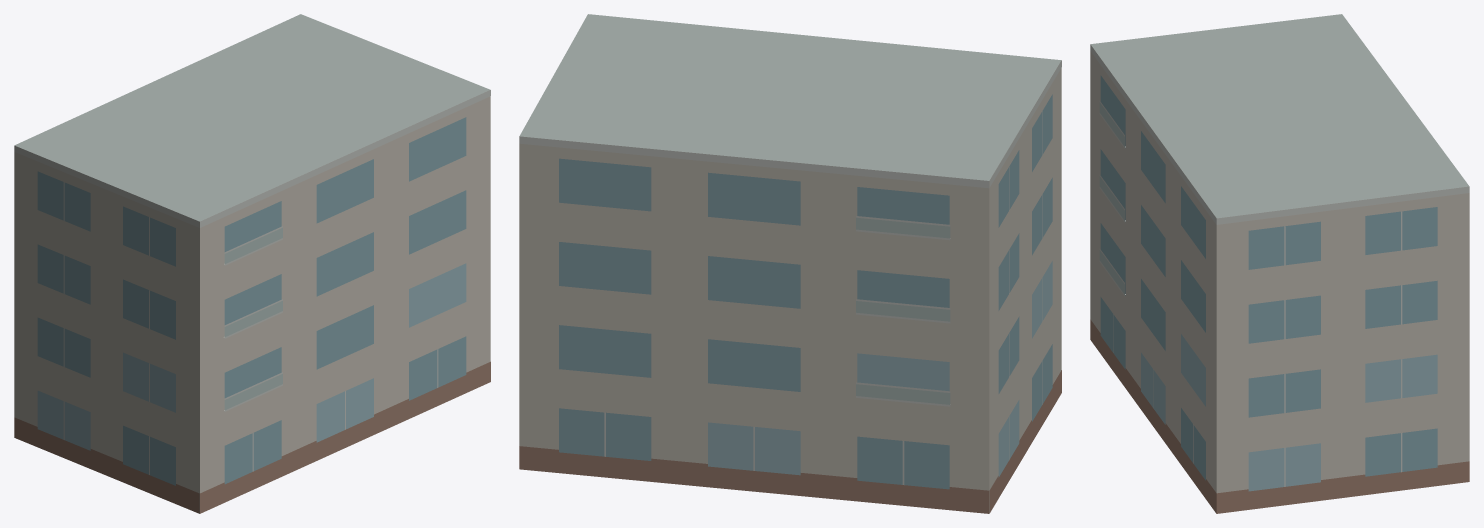
Rendered from survey-upis-32612944.glb.
The picture shows the model from 3 angles, left to right: view 1: azimuth 30°, elevation 25°; view 2: azimuth 150°, elevation 25°; view 3: azimuth 270°, elevation 25°; orthographic projection. The views are drawn at different scales.
Visible parts, largest first — view 1: survey-upis-32612944.tmp; view 2: survey-upis-32612944.tmp; view 3: survey-upis-32612944.tmp.
Boxes of the visible parts, x1,y1,x2,y2 form: survey-upis-32612944.tmp: (14,14,490,513); survey-upis-32612944.tmp: (519,14,1061,513); survey-upis-32612944.tmp: (1090,14,1469,513).
Bounding box in the file's own units: 16.48 × 11.1 × 12.93.
